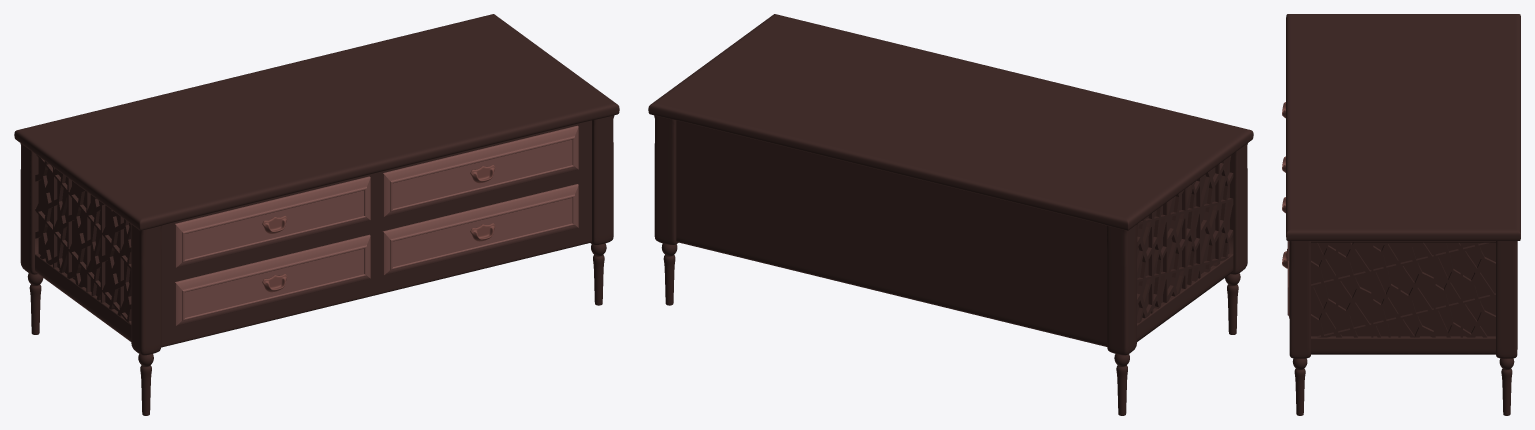
File: komodin(1).fbx
The picture shows the model from 3 angles, left to right: view 1: azimuth 30°, elevation 25°; view 2: azimuth 150°, elevation 25°; view 3: azimuth 270°, elevation 25°; orthographic projection. The views are drawn at different scales.
Parts seen in each view (by area): view 1: komodin, cekmece.009, cekmece.011, cekmece.010, cekmece.012; view 2: komodin; view 3: komodin.
Boxes of the visible parts, x1=… form: komodin: x1=14, y1=14, x2=619, y2=415; cekmece.009: x1=174, y1=176, x2=370, y2=267; cekmece.011: x1=382, y1=125, x2=578, y2=216; cekmece.010: x1=174, y1=234, x2=370, y2=325; cekmece.012: x1=382, y1=184, x2=578, y2=275; komodin: x1=648, y1=14, x2=1253, y2=415; komodin: x1=1286, y1=14, x2=1520, y2=415.
Bounding box in the file's own units: 122 × 49.24 × 56.36.
